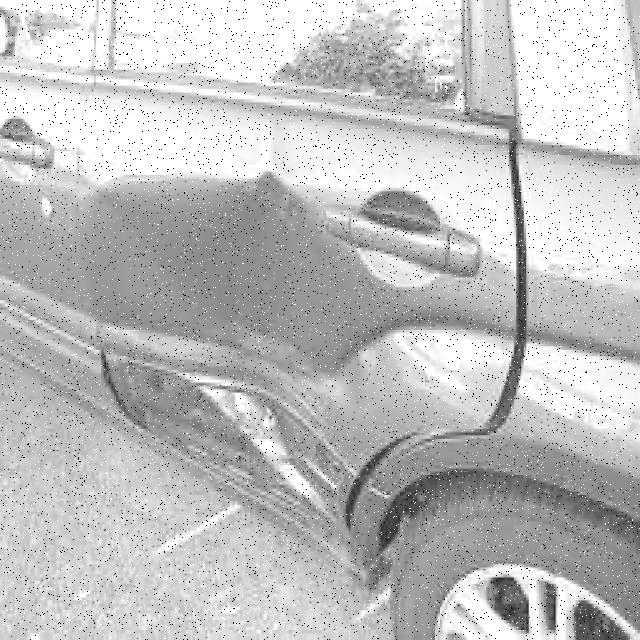car damage: (84, 160, 514, 566)
